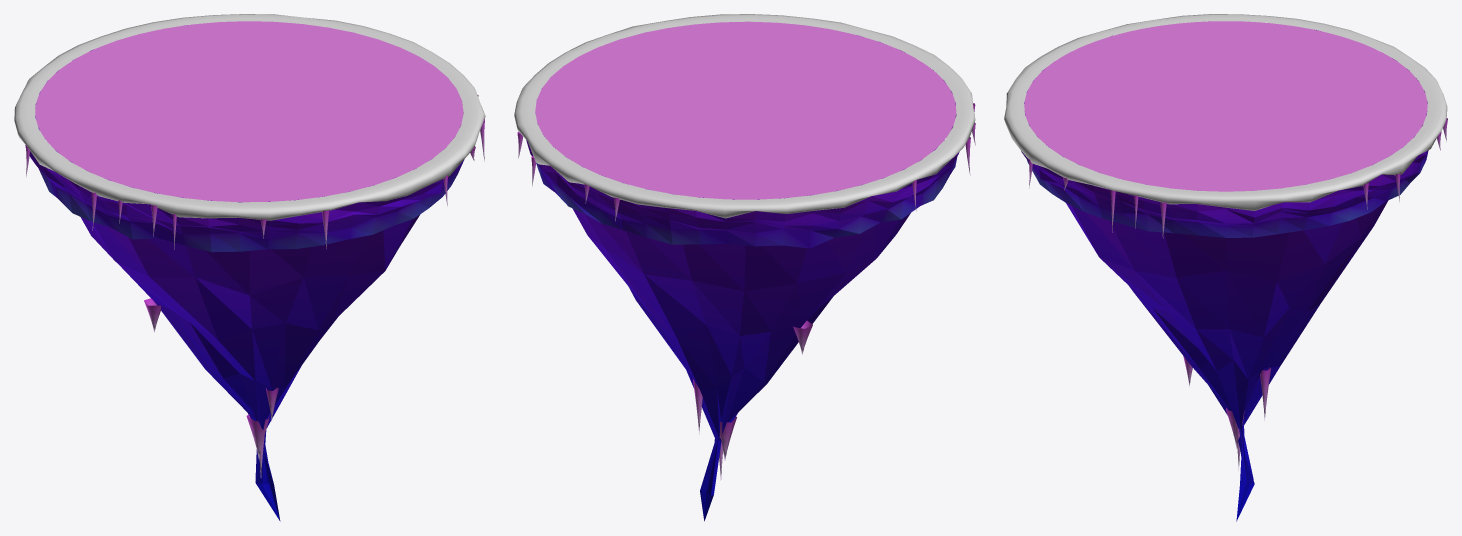
The model's file is Kit_Floe_B.fbx.
3 views of the same model, side by side, from view 1: azimuth 30°, elevation 25°; view 2: azimuth 150°, elevation 25°; view 3: azimuth 270°, elevation 25° (orthographic). The views are drawn at different scales.
Parts seen in each view (by area): view 1: Floe_B; view 2: Floe_B; view 3: Floe_B.
Part boxes in pixels (left/top/right/bottom): Floe_B: left=14, top=14, right=485, bottom=521; Floe_B: left=514, top=14, right=975, bottom=521; Floe_B: left=1004, top=14, right=1447, bottom=521.
Size of the model in its own units: 9.16 by 9.16 by 9.23.
